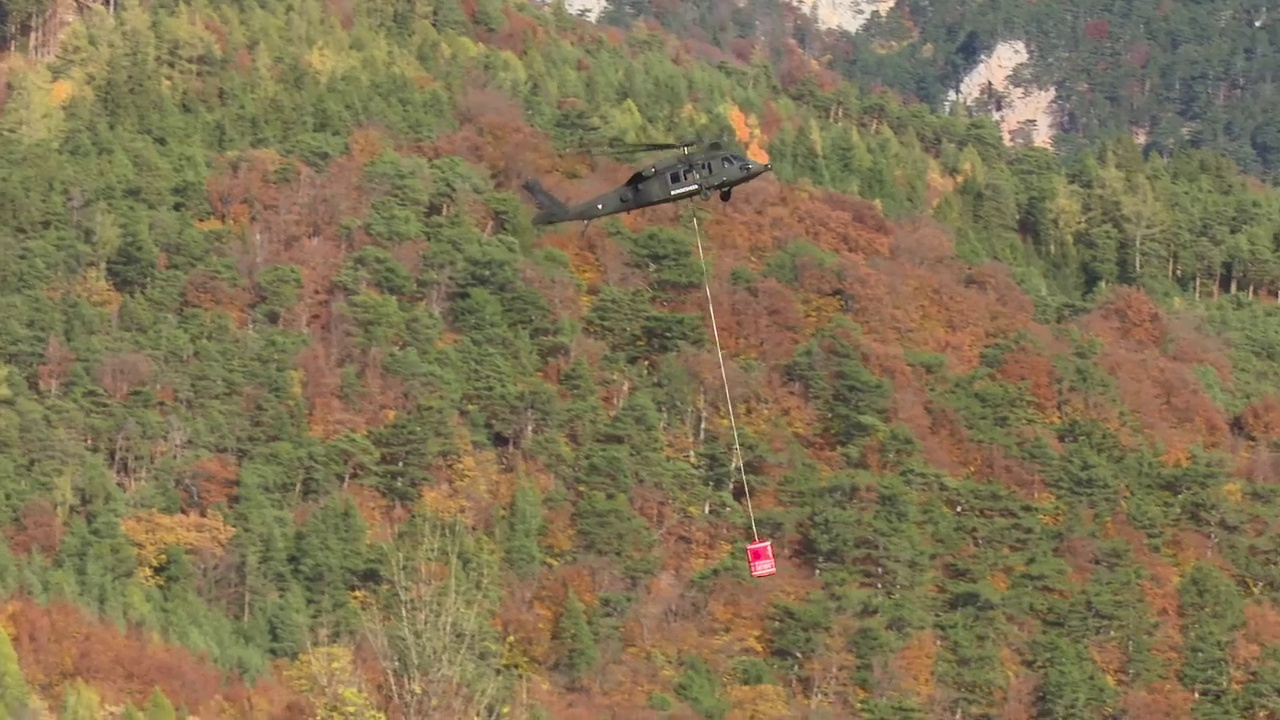heli: (522, 136, 776, 227)
